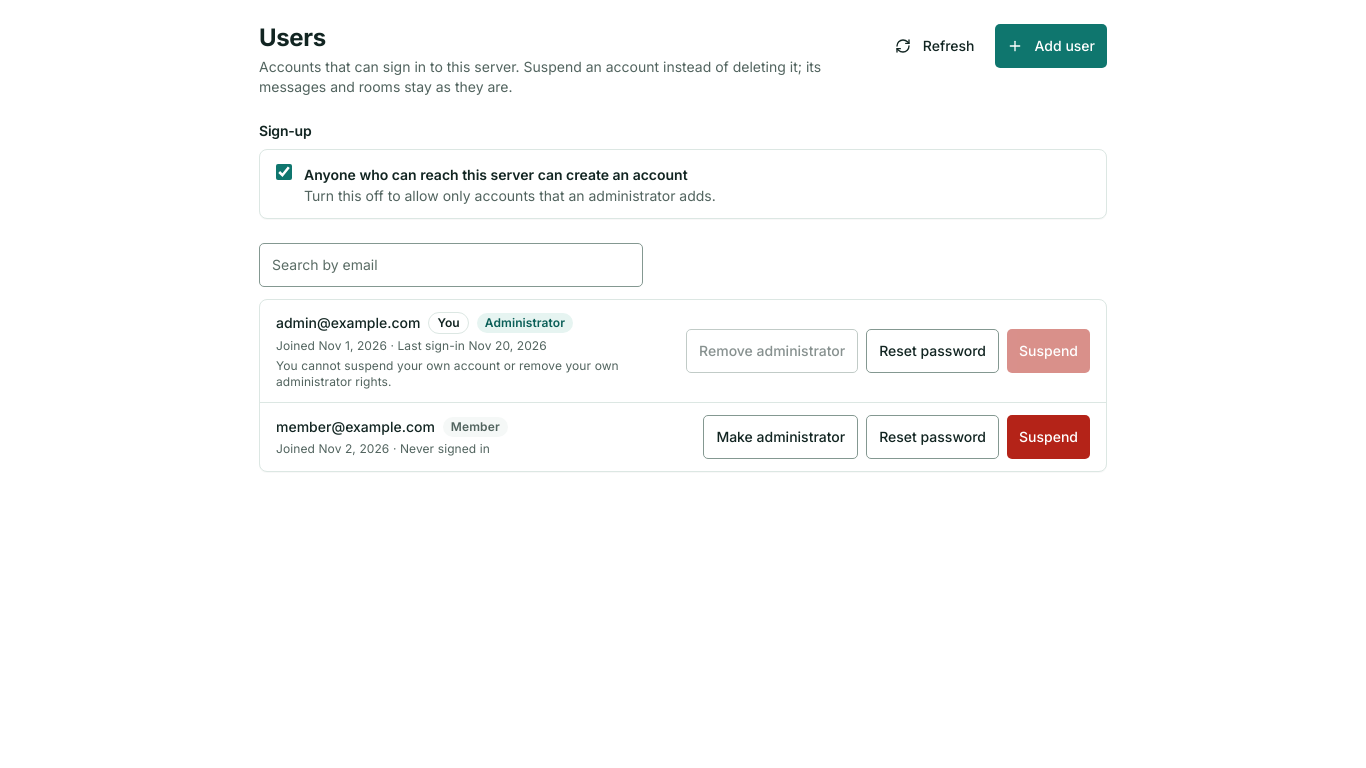
[AUTH-17] adds a user from the dialog
Expected: the list item with test id "user-row-member@example.com" is shown, [260,403,1106,471]
Click the button "Add user" at (1051, 46), box [994,24,1107,68]
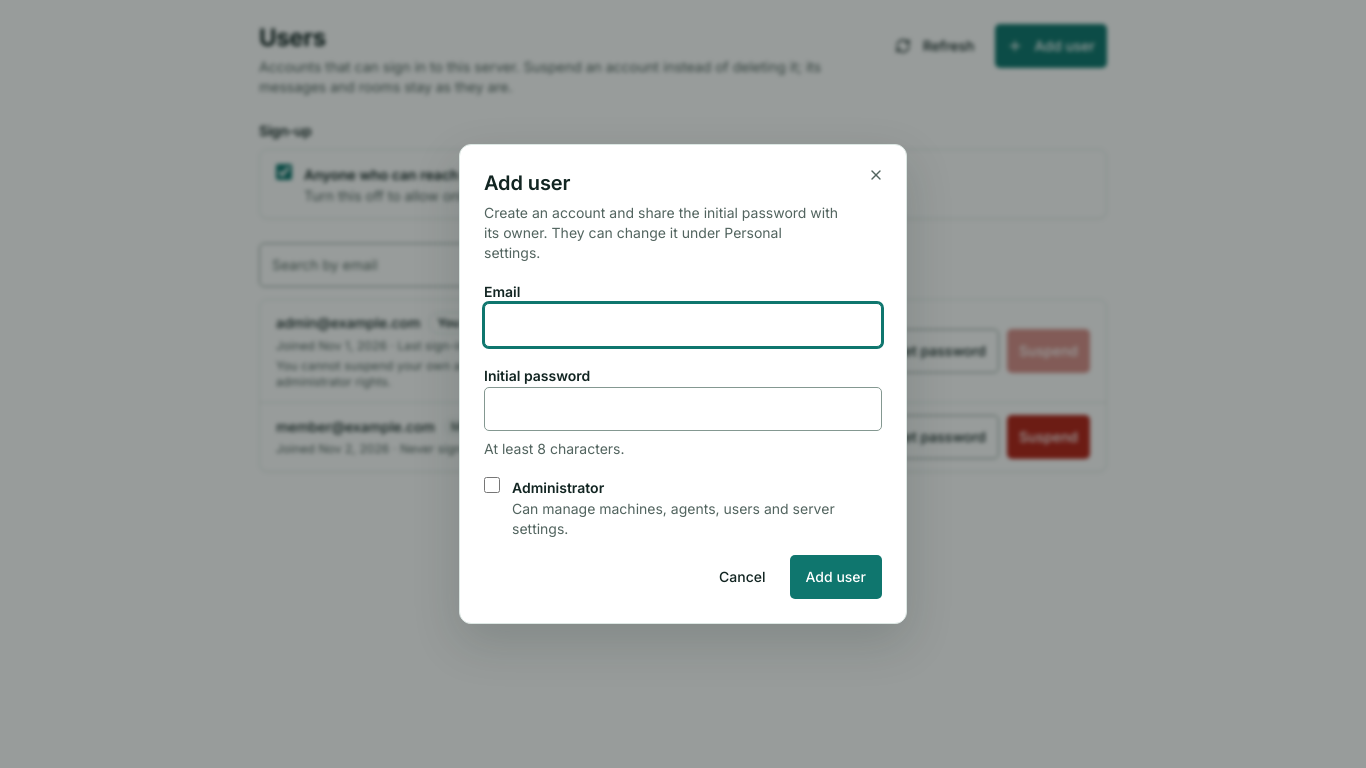
Type "new@example.com" into the field labelled "Email" at (683, 325), box [484,303,882,347]
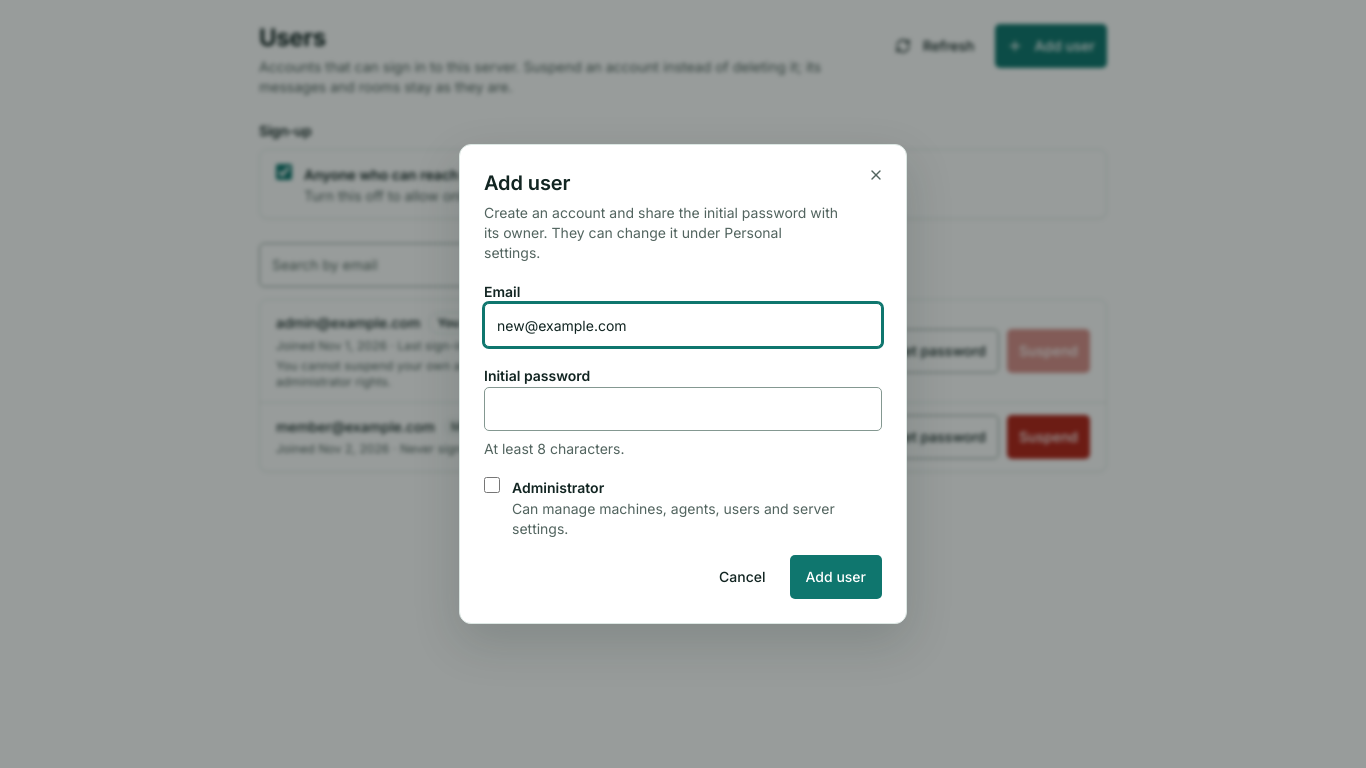
Type "initial-pass" into the password field labelled "Initial password" at (683, 409), box [484,387,882,431]
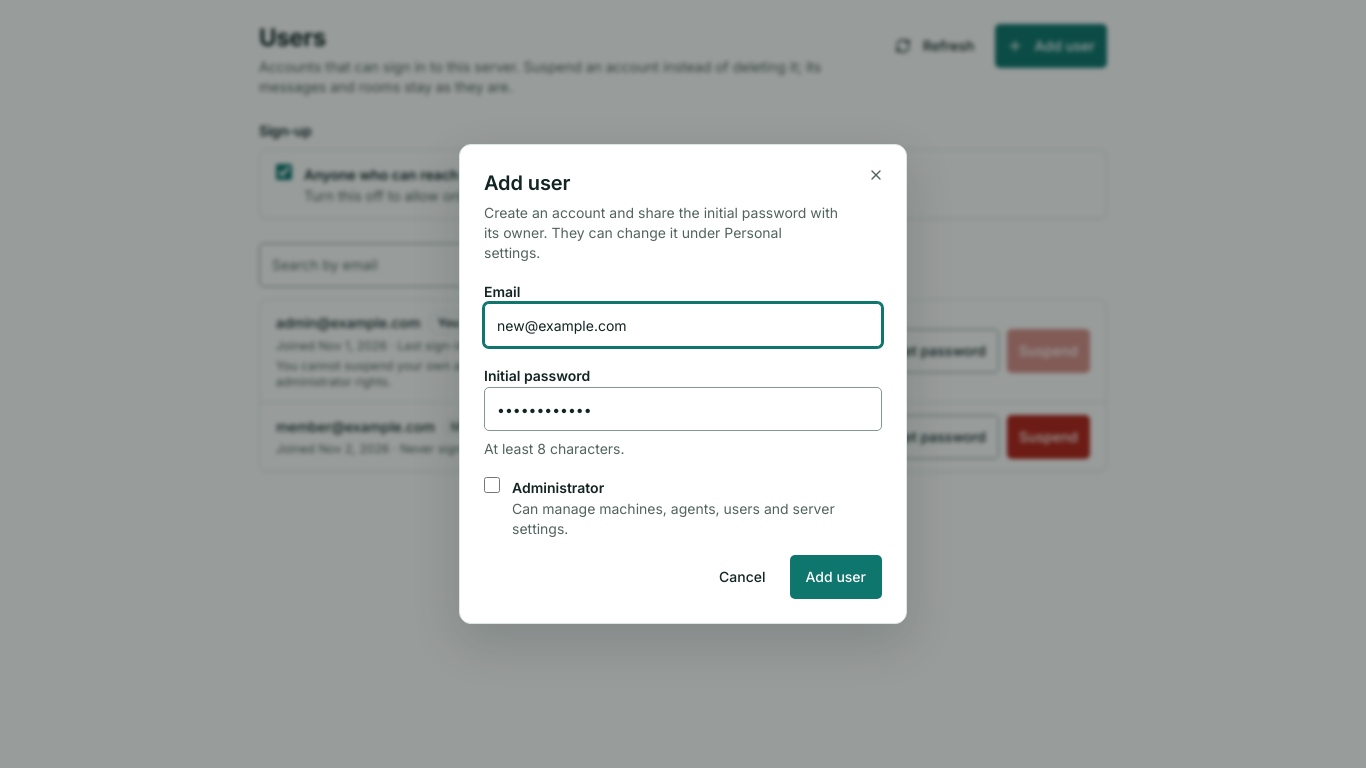
Click the button "Add user" at (836, 577), box [790,555,882,599]
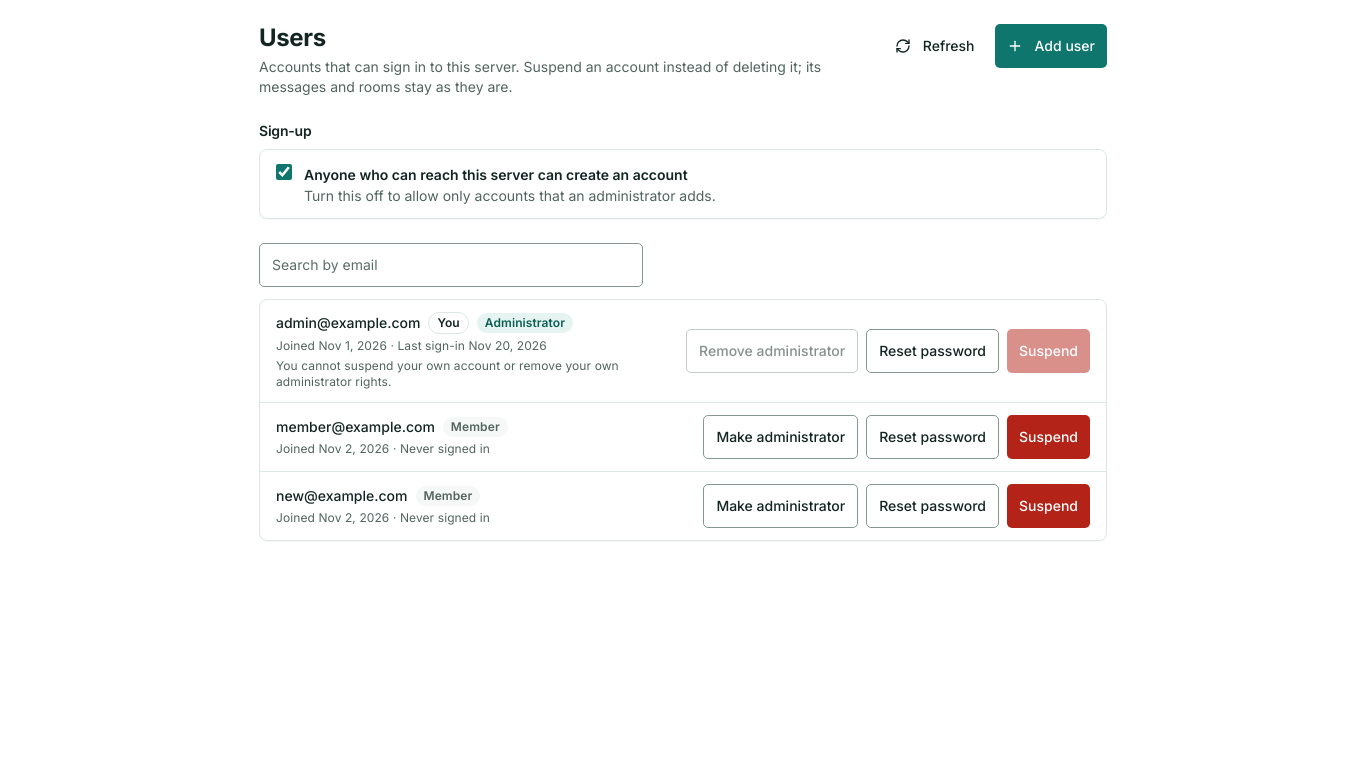
Expected: the list item with test id "user-row-new@example.com" is shown, [260,472,1106,540]
